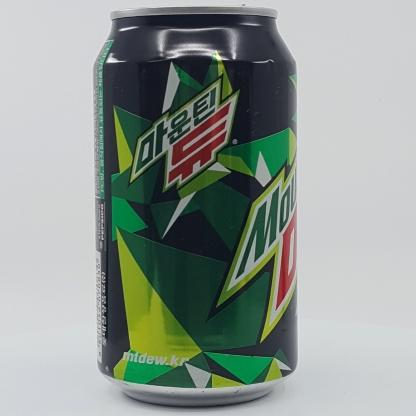------355ML: (92, 4, 299, 407)
